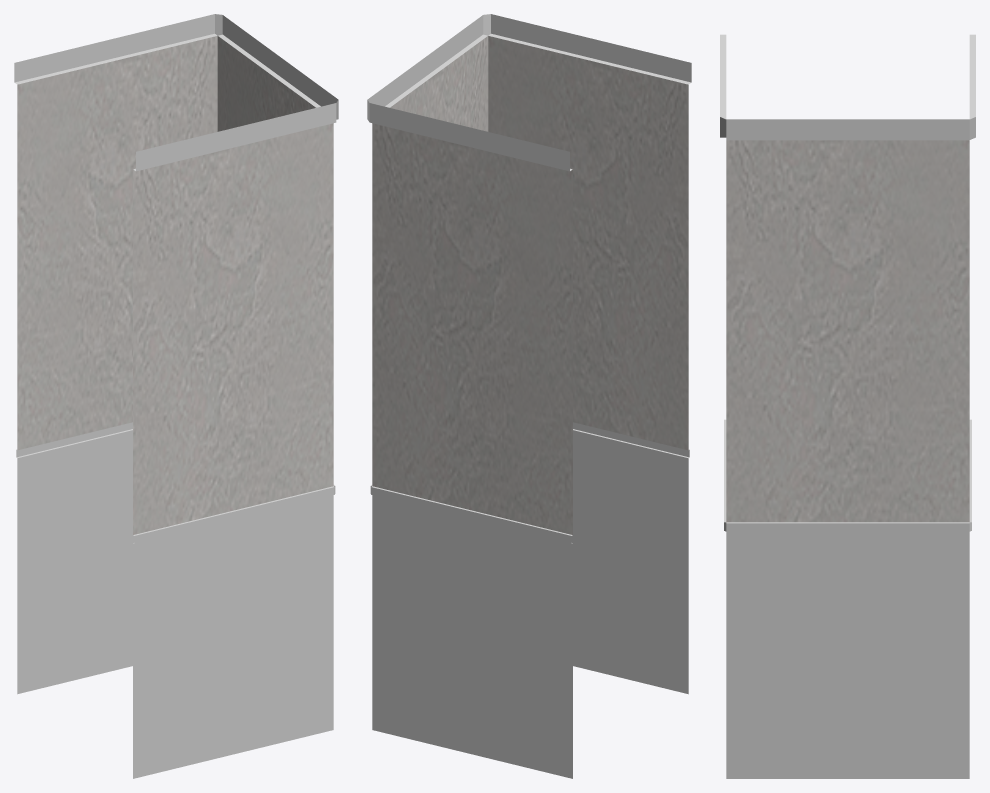
File: Wall_pillar1.fbx
The picture shows the model from 3 angles, left to right: view 1: azimuth 30°, elevation 25°; view 2: azimuth 150°, elevation 25°; view 3: azimuth 270°, elevation 25°; orthographic projection. The views are drawn at different scales.
Parts seen in each view (by area): view 1: Wall.031; view 2: Wall.031; view 3: Wall.031.
Boxes of the visible parts, bbox=[...] form: Wall.031: bbox=[14, 14, 338, 778]; Wall.031: bbox=[367, 14, 691, 778]; Wall.031: bbox=[720, 34, 975, 778].
Size of the model in its own units: 103 by 300 by 105.
